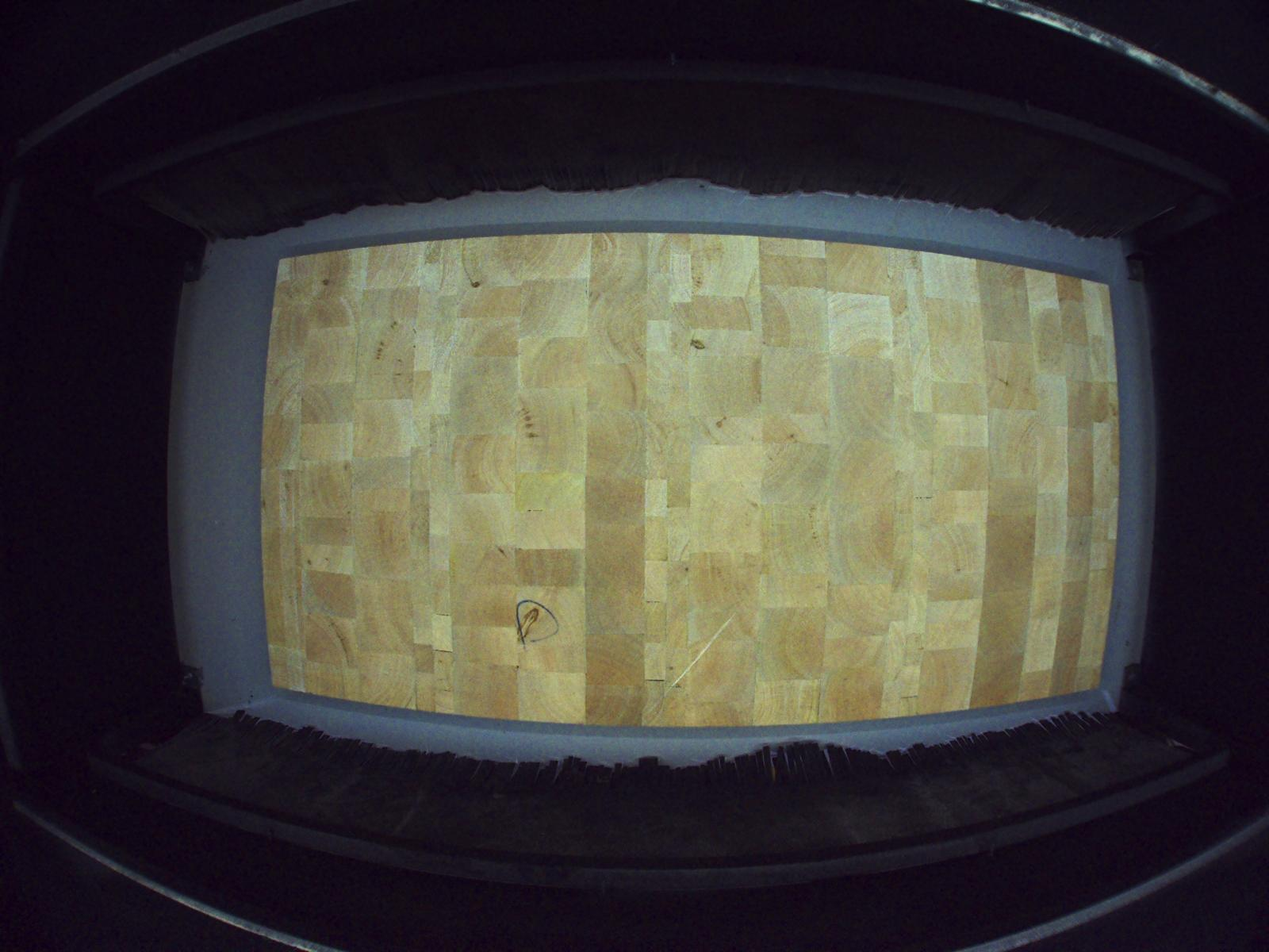nudillo: (515, 605, 541, 644)
